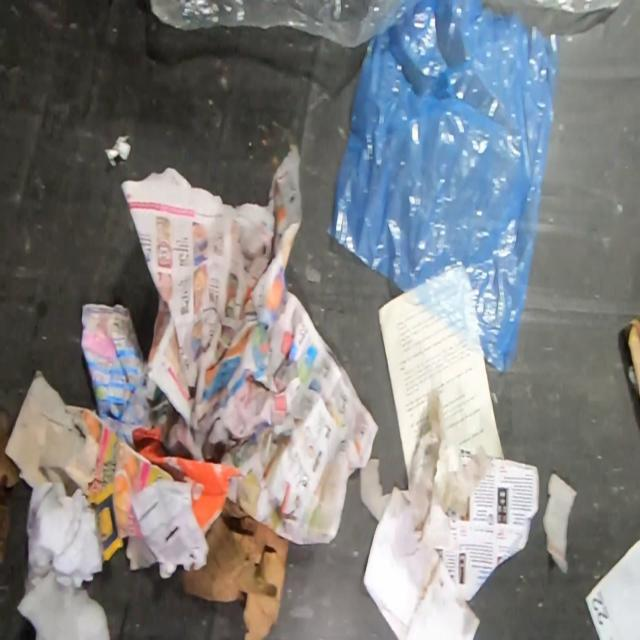cardboard: (3, 370, 175, 564), (181, 496, 291, 640), (131, 425, 244, 535), (0, 410, 22, 564), (623, 317, 640, 401)
soft_plastic: (326, 0, 561, 374), (148, 0, 422, 50), (522, 0, 622, 14)
